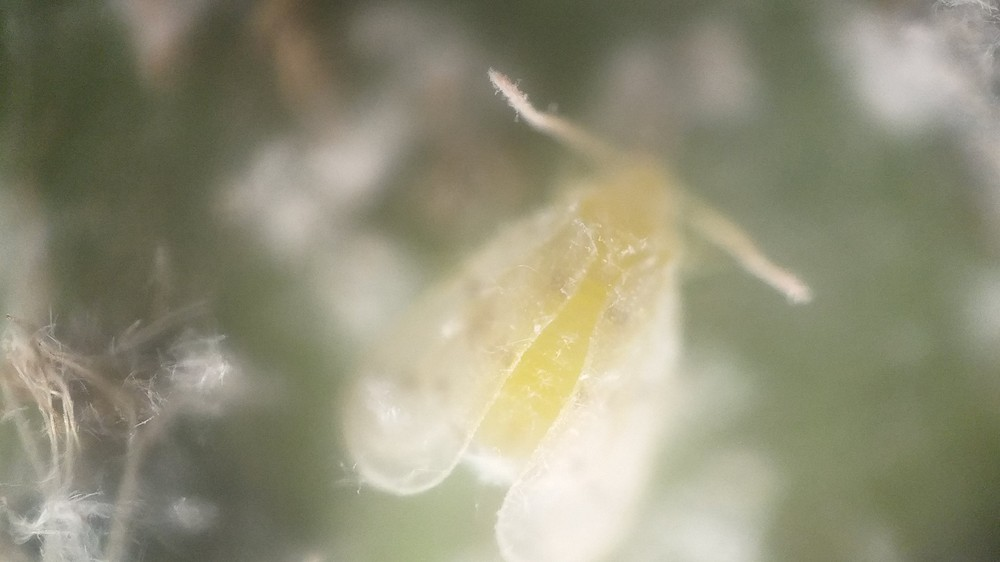Mosca Blanca: (324, 65, 822, 559)
